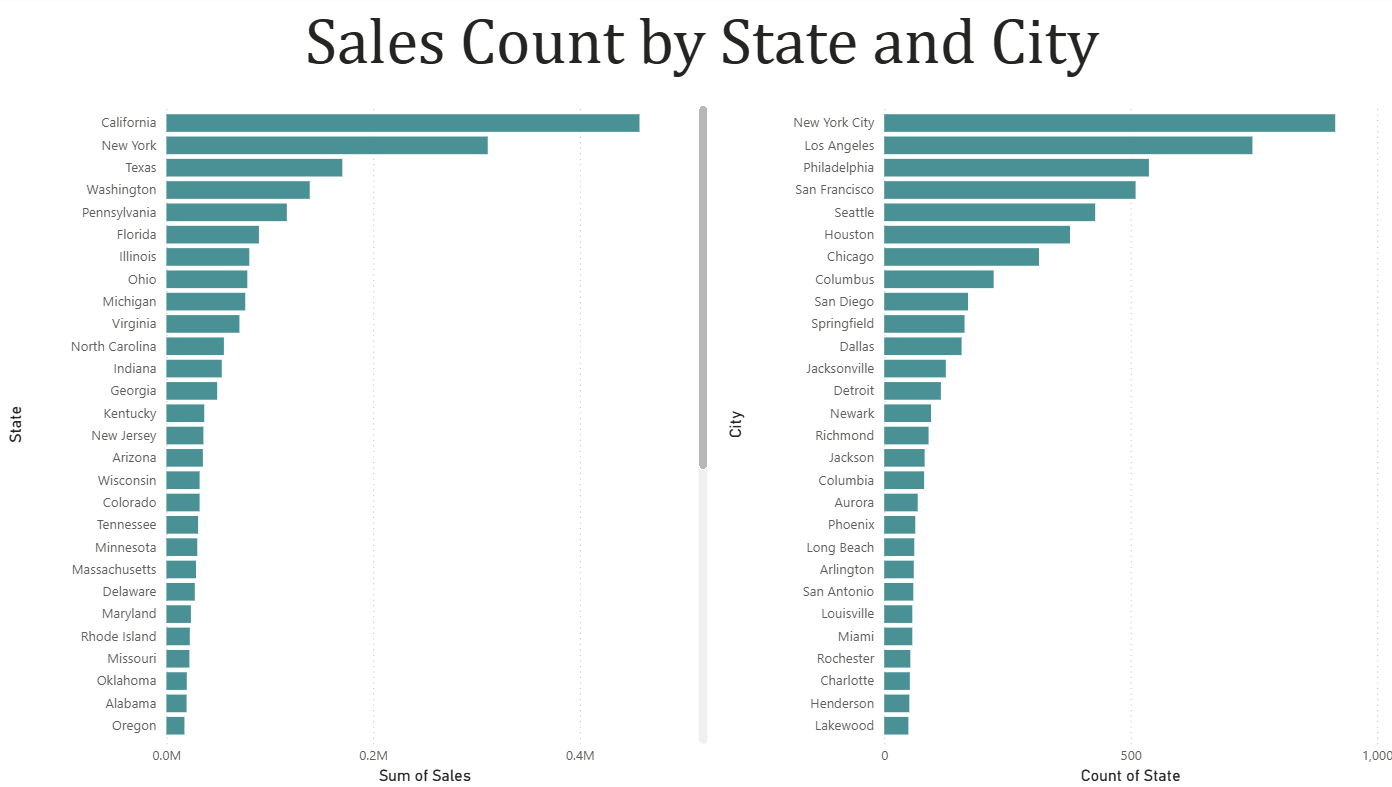

Layout of this report page (visuals, bound fields, positions):
{"tool":"powerbi","page":{"name":"Page 3","canvas":[1280,720],"ordinal":2},"visuals":[{"type":"clusteredBarChart","fields":{"Category":["Orders.State"],"Y":["Sum(Orders.Sales)"]},"box":[4.5,67.1,645.6,652.9],"z":0},{"type":"barChart","fields":{"Y":["CountNonNull(Orders.State)"],"Category":["Orders.City"]},"box":[657.4,67.1,623,652.9],"z":1000},{"type":"textbox","box":[0,0,1280.4,98.8],"z":2000}]}

Visuals, with their boxes in screenshot pixels (x1, y1, x2, y2), scaled from the page's 1280x720 canvas onto the 1392x787 screenshot:
clusteredBarChart - Orders.State x Sum(Orders.Sales): (5, 73, 707, 786)
barChart - CountNonNull(Orders.State) x Orders.City: (715, 73, 1391, 786)
textbox: (0, 0, 1391, 108)
